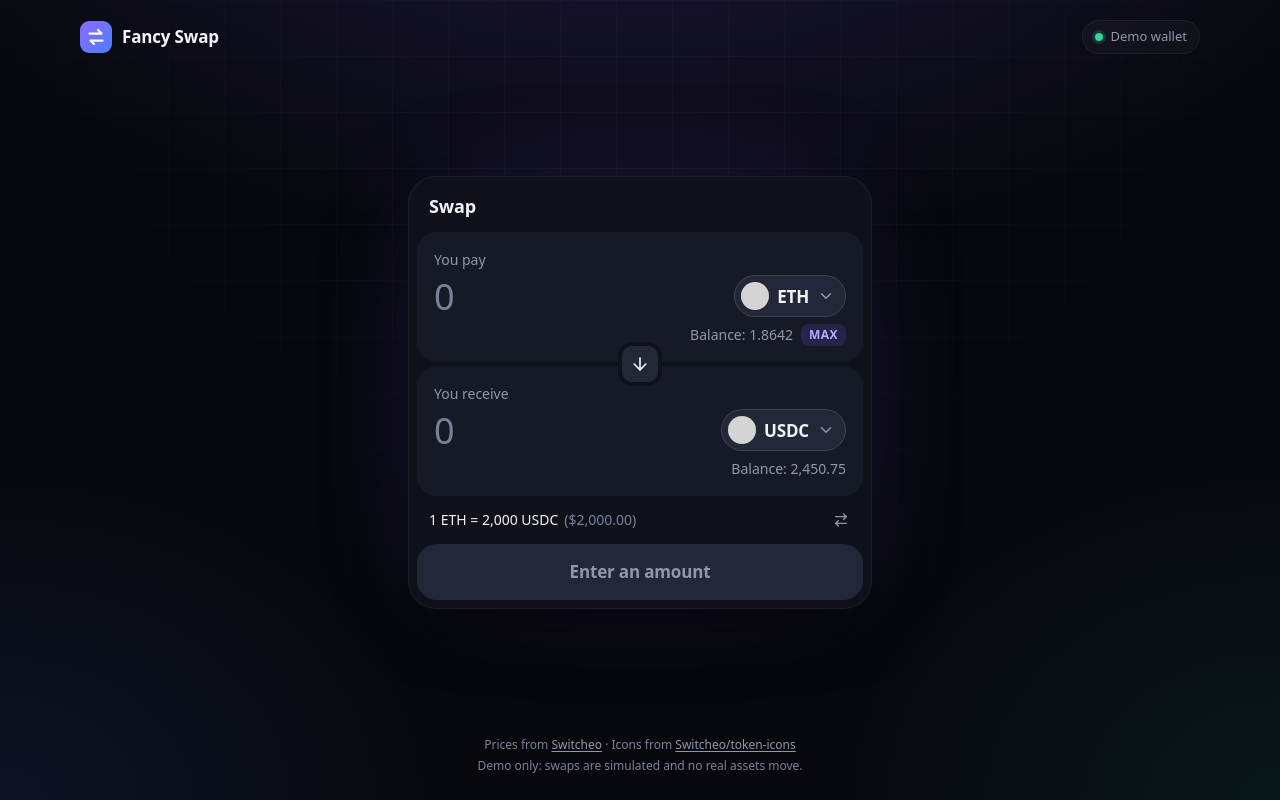
Test case: swap form › blocks amounts above the balance and offers the maximum instead
Expected: the button with aria-label "ETH, change token to pay with" is shown, [734,275,846,317]
Type "2" into the field labelled "You pay" at point(578, 296), box [434,274,722,319]
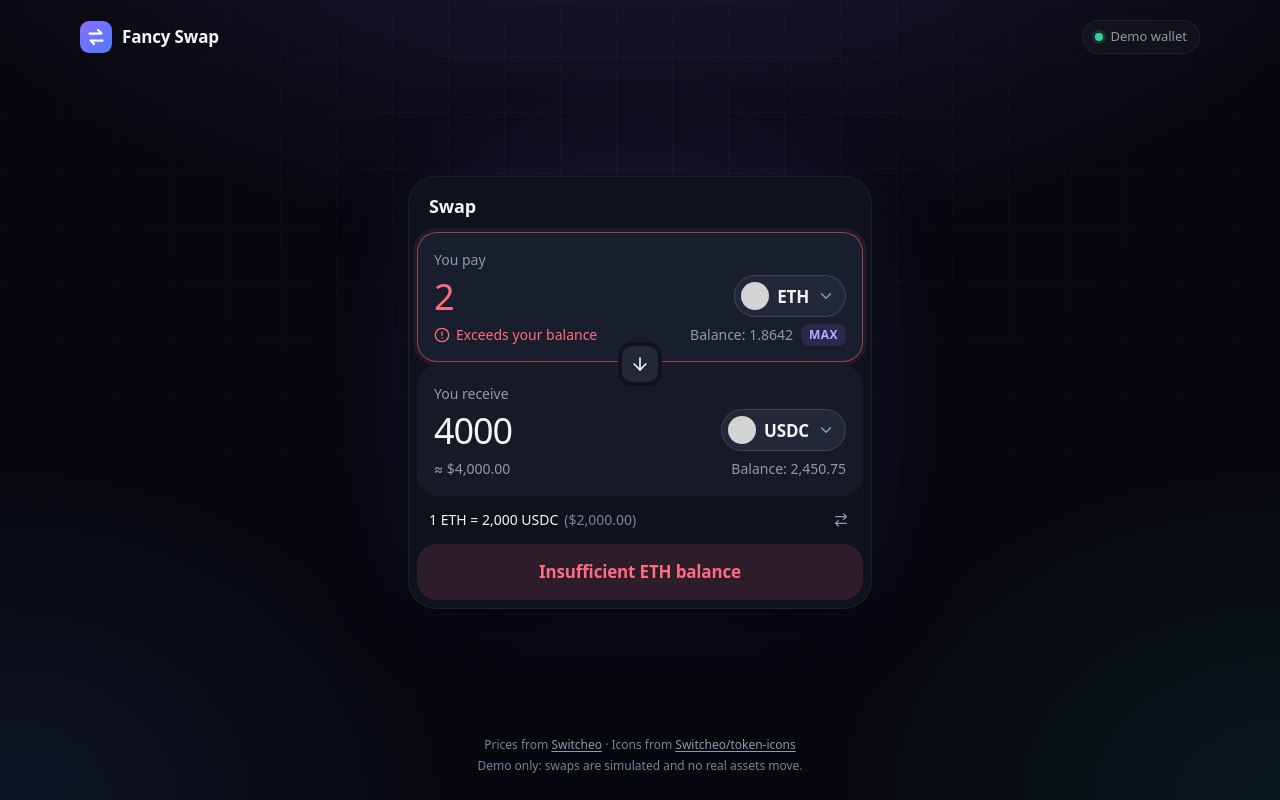
Expected: the field labelled "You pay" is marked as invalid, [434,274,722,319]
Click the button "Insufficient ETH balance" at point(640, 572), box [417,544,863,600]
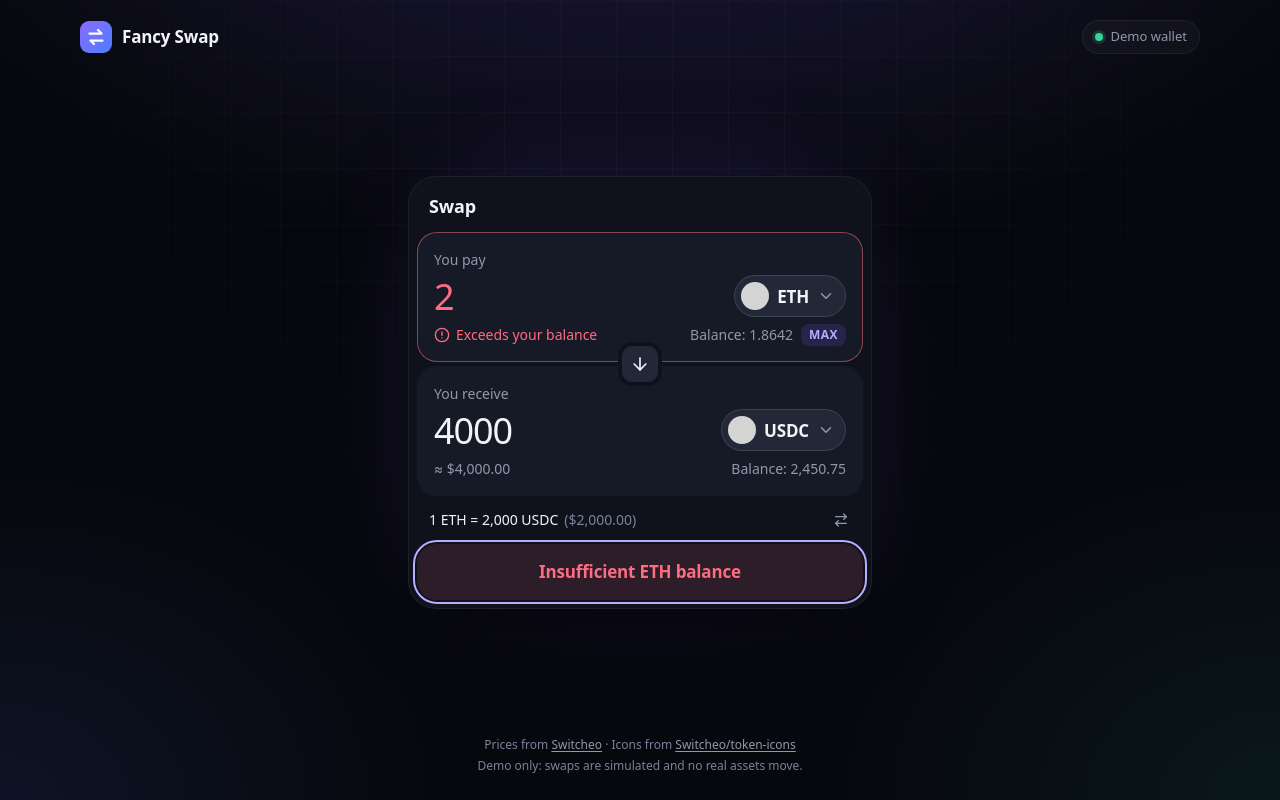
Click the button with aria-label "Max, use your whole ETH balance" at point(824, 335), box [801,324,846,346]
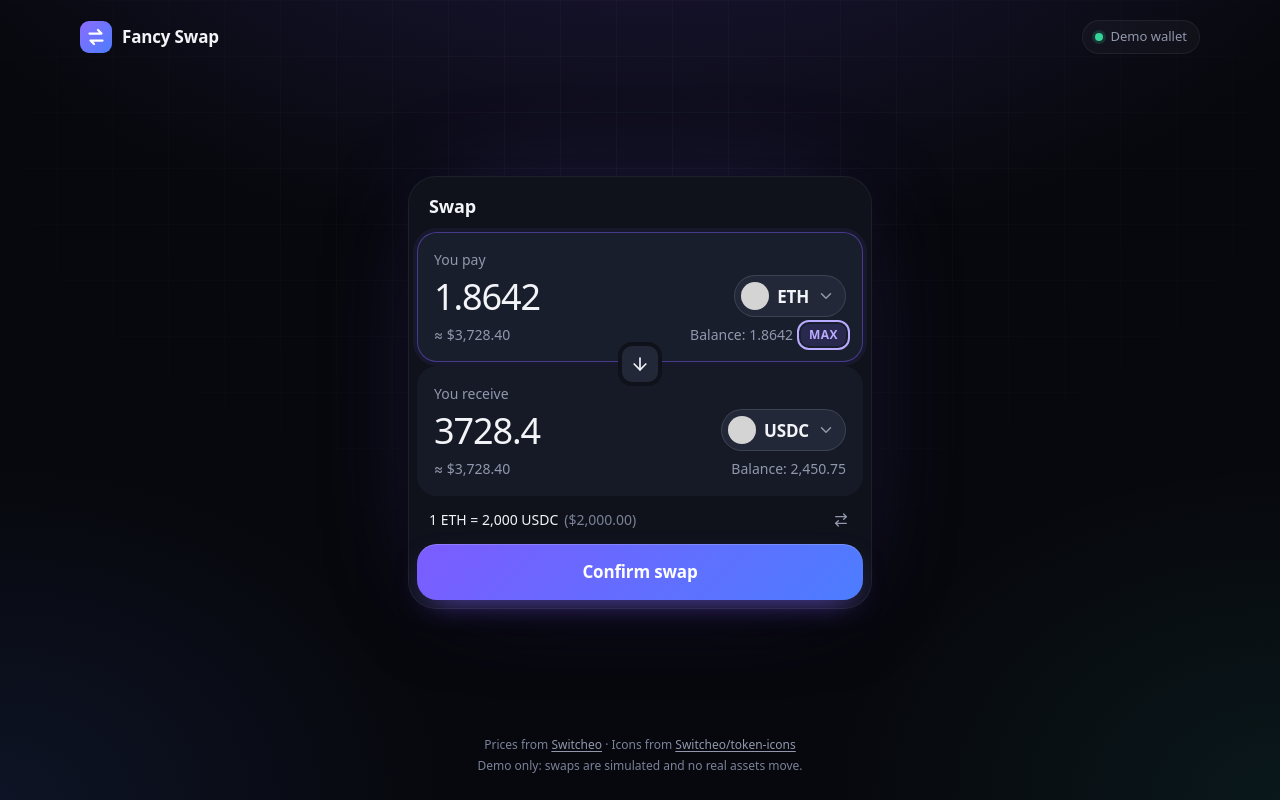
Expected: the field labelled "You pay" holds "1.8642", [434,274,722,319]
Expected: the button "Confirm swap" is shown, [417,544,863,600]
